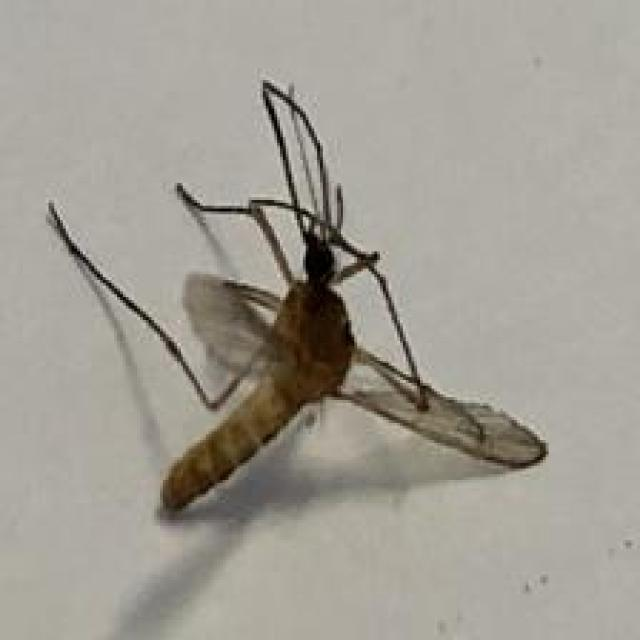Culex: (44, 77, 550, 514)
